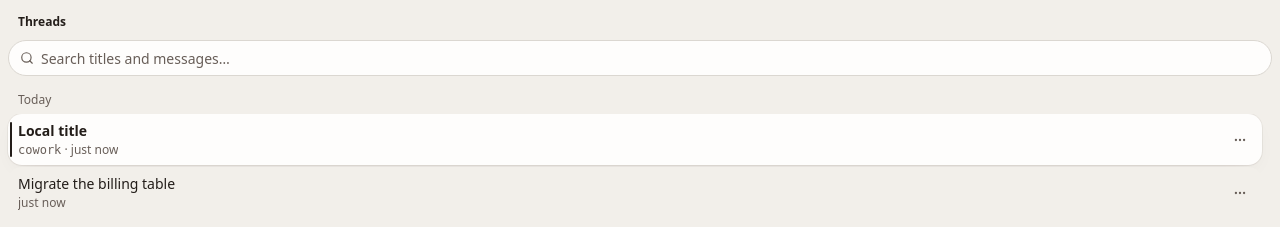
Test case: ThreadList rows › finds a row by what it shows, including a fallback title
In the search field named "Search threads": (640, 58) [8,40,1272,76], type "billing"
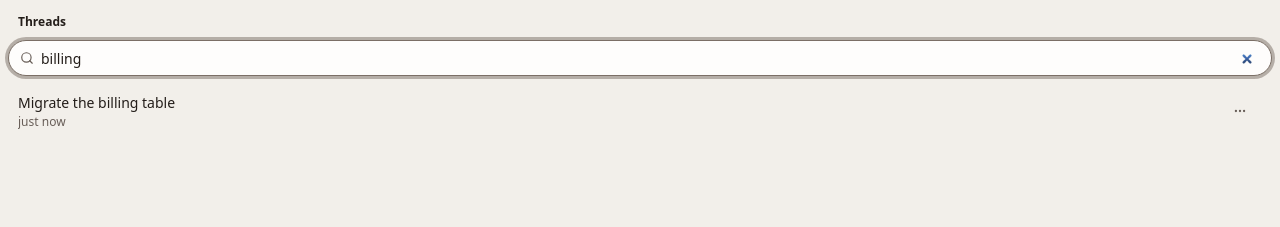
Expected: the text "Migrate the billing table" is shown, [18,93,175,112]
Result: the button "Local title" is gone
